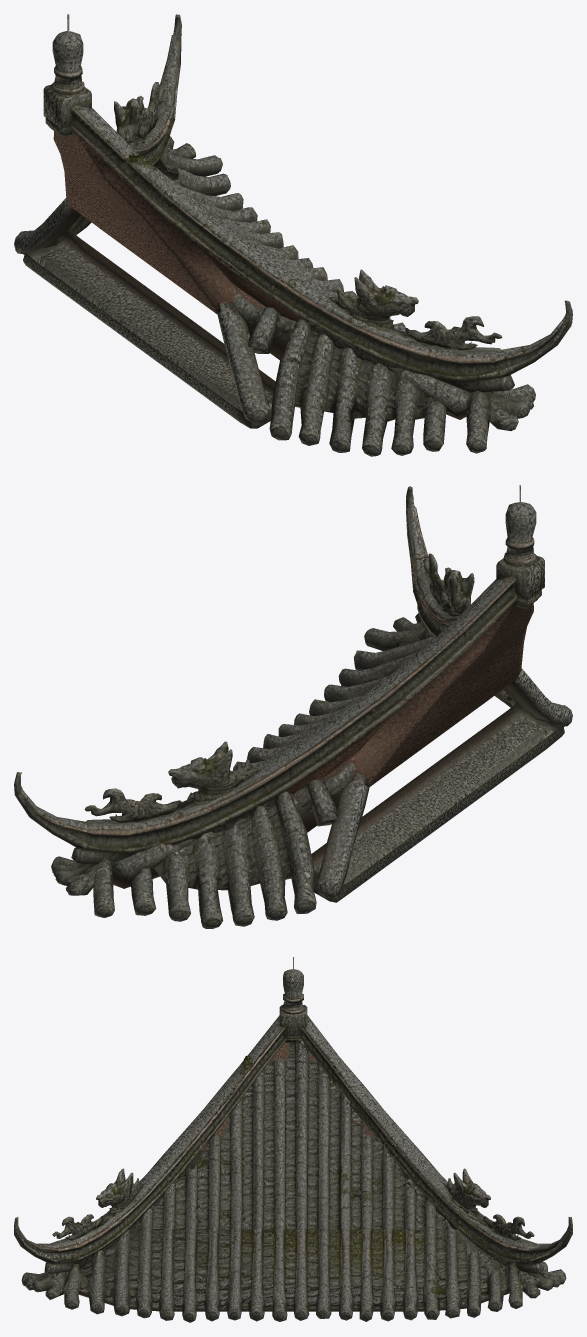
File: tripo_convert_bb501df9-966d-4aee-8a22-436a927056e5.fbx
3 views of the same model, one above another, from view 1: azimuth 30°, elevation 25°; view 2: azimuth 150°, elevation 25°; view 3: azimuth 270°, elevation 25° (orthographic). The views are drawn at different scales.
Parts seen in each view (by area): view 1: tripo_node_bb501df9; view 2: tripo_node_bb501df9; view 3: tripo_node_bb501df9.
Boxes of the visible parts, x1,y1,x2,y2 form: tripo_node_bb501df9: (14, 14, 572, 456); tripo_node_bb501df9: (14, 485, 572, 928); tripo_node_bb501df9: (14, 957, 572, 1322).
Size of the model in its own units: 0.4785 by 0.5215 by 0.998.
1 material, 1 textured.
